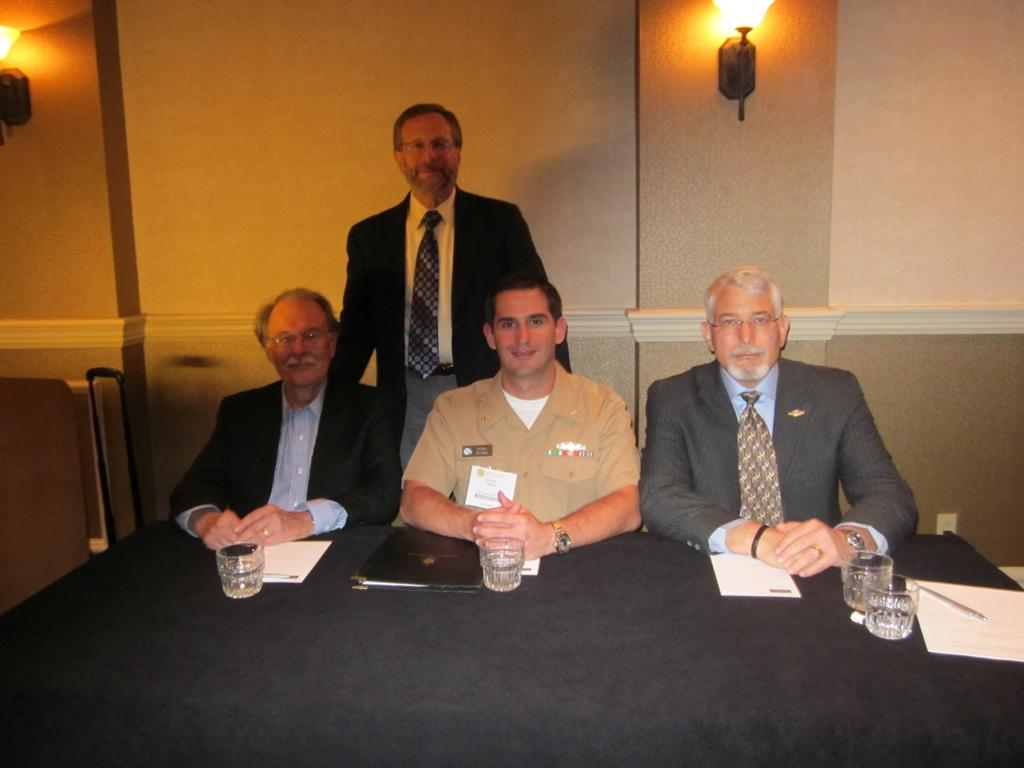face: (708, 288, 780, 380), (268, 300, 334, 390), (492, 292, 556, 378), (402, 118, 462, 196)
